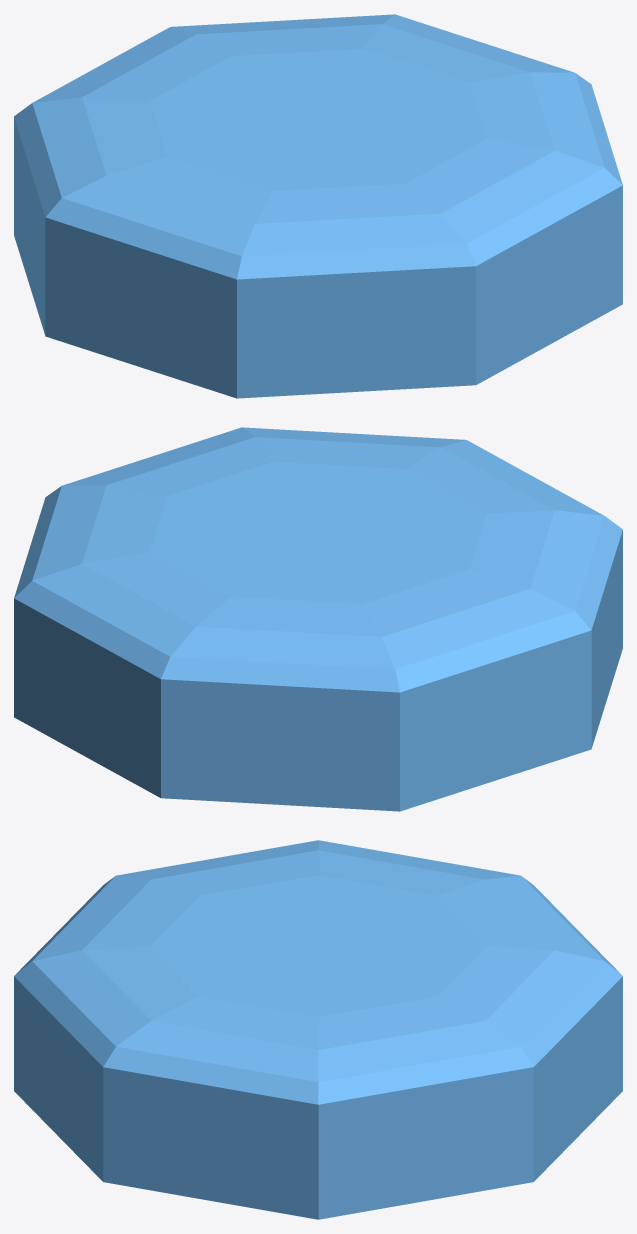
File: RWVDop.fbx
The picture shows the model from 3 angles, top to bottom: view 1: azimuth 30°, elevation 25°; view 2: azimuth 150°, elevation 25°; view 3: azimuth 270°, elevation 25°; orthographic projection. The views are drawn at different scales.
Parts seen in each view (by area): view 1: RWVDop; view 2: RWVDop; view 3: RWVDop.
Part boxes in pixels (bbox=[...]): RWVDop: bbox=[14, 14, 622, 398]; RWVDop: bbox=[14, 427, 622, 811]; RWVDop: bbox=[14, 840, 622, 1219].
Size of the model in its own units: 4.53 by 1.19 by 4.53.
